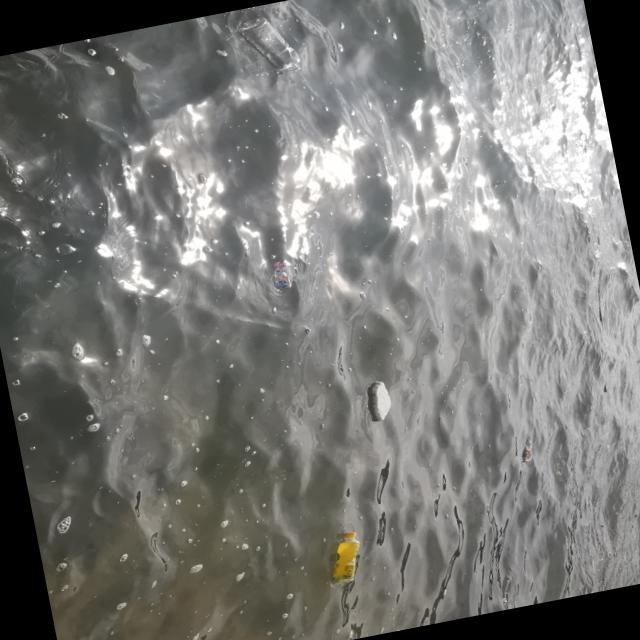foam: (366, 378, 396, 423)
plastic: (234, 11, 301, 81), (323, 530, 368, 587), (518, 435, 538, 464)
unknow: (270, 258, 297, 291)
